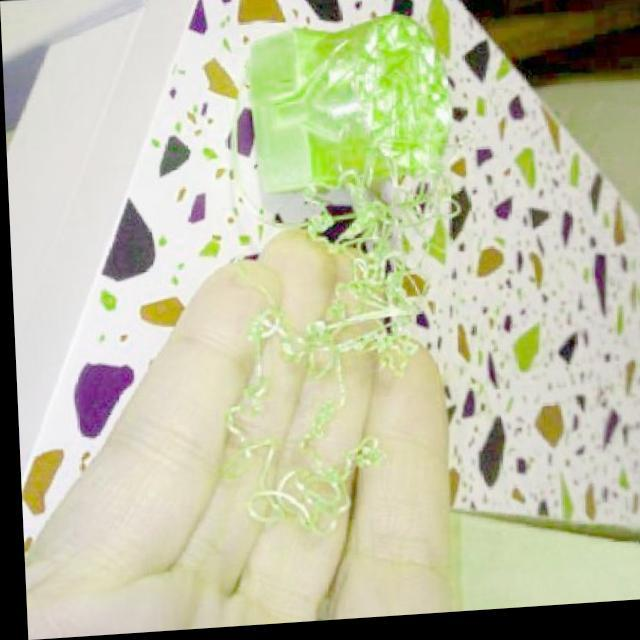spaghetti: (206, 125, 471, 546)
